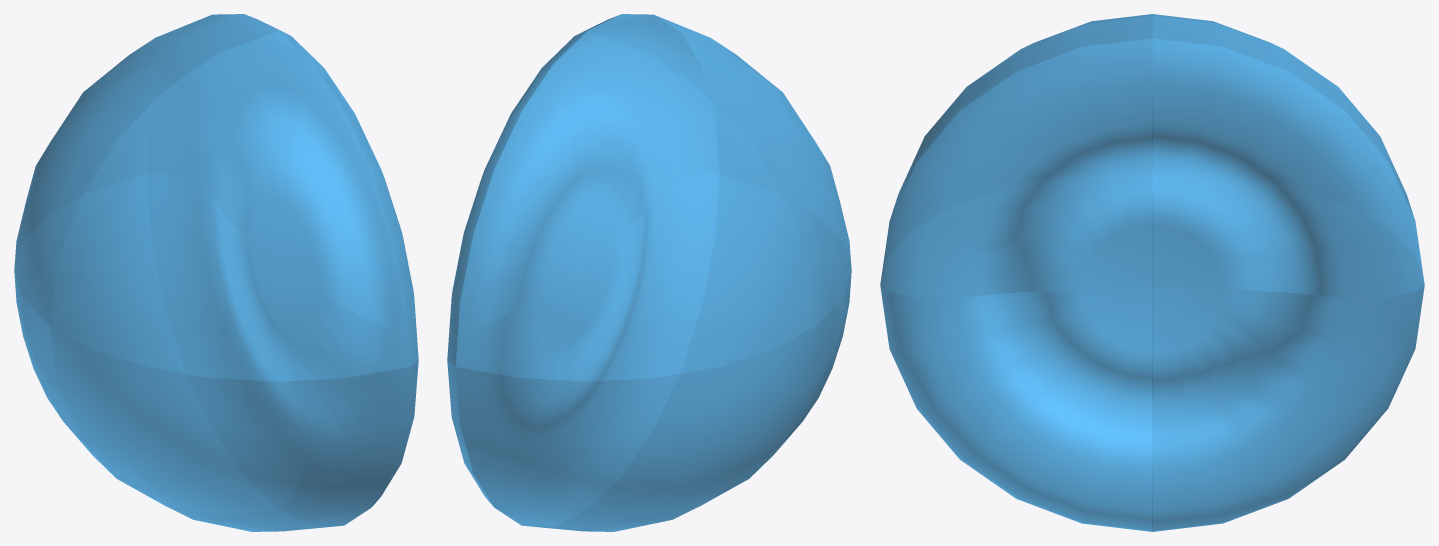
File: droplet.fbx
3 renders of one model, left to right at view 1: azimuth 30°, elevation 25°; view 2: azimuth 150°, elevation 25°; view 3: azimuth 270°, elevation 25°, orthographic. The views are drawn at different scales.
Visible parts, largest first — view 1: Group_26_1; view 2: Group_26_1; view 3: Group_26_1.
Boxes of the visible parts, x1=… form: Group_26_1: x1=14, y1=14, x2=418, y2=531; Group_26_1: x1=447, y1=14, x2=851, y2=531; Group_26_1: x1=880, y1=14, x2=1424, y2=531.
Bounding box in the file's own units: 51.73 × 93.28 × 93.28.
